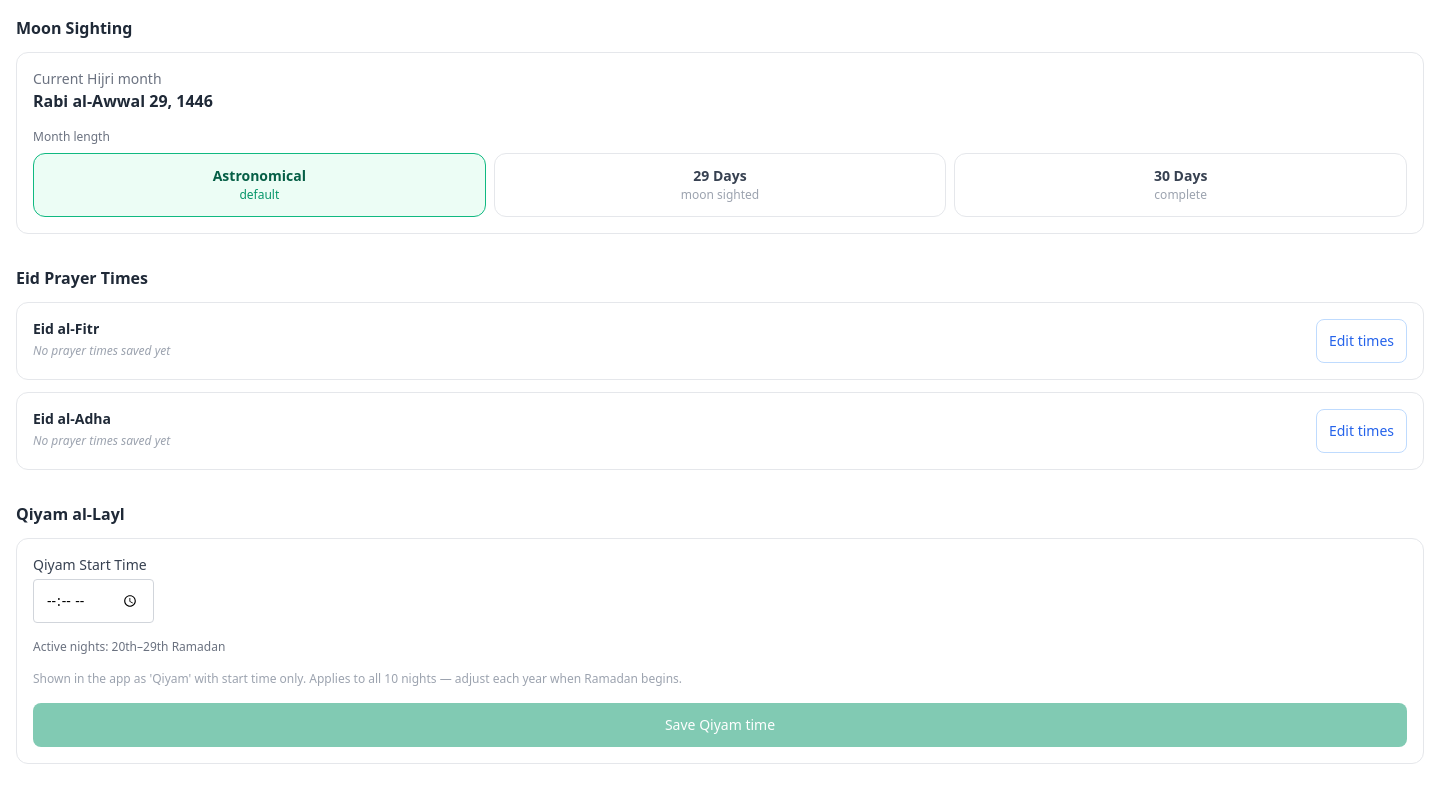
Test: RamadanEidPage — unit tests › shows success message after successful POST for non-Eid month
This screenshot has width=1440, height=810.
Click the button with test id "month-length-tile-29" at (720, 185), box [494, 153, 946, 217]
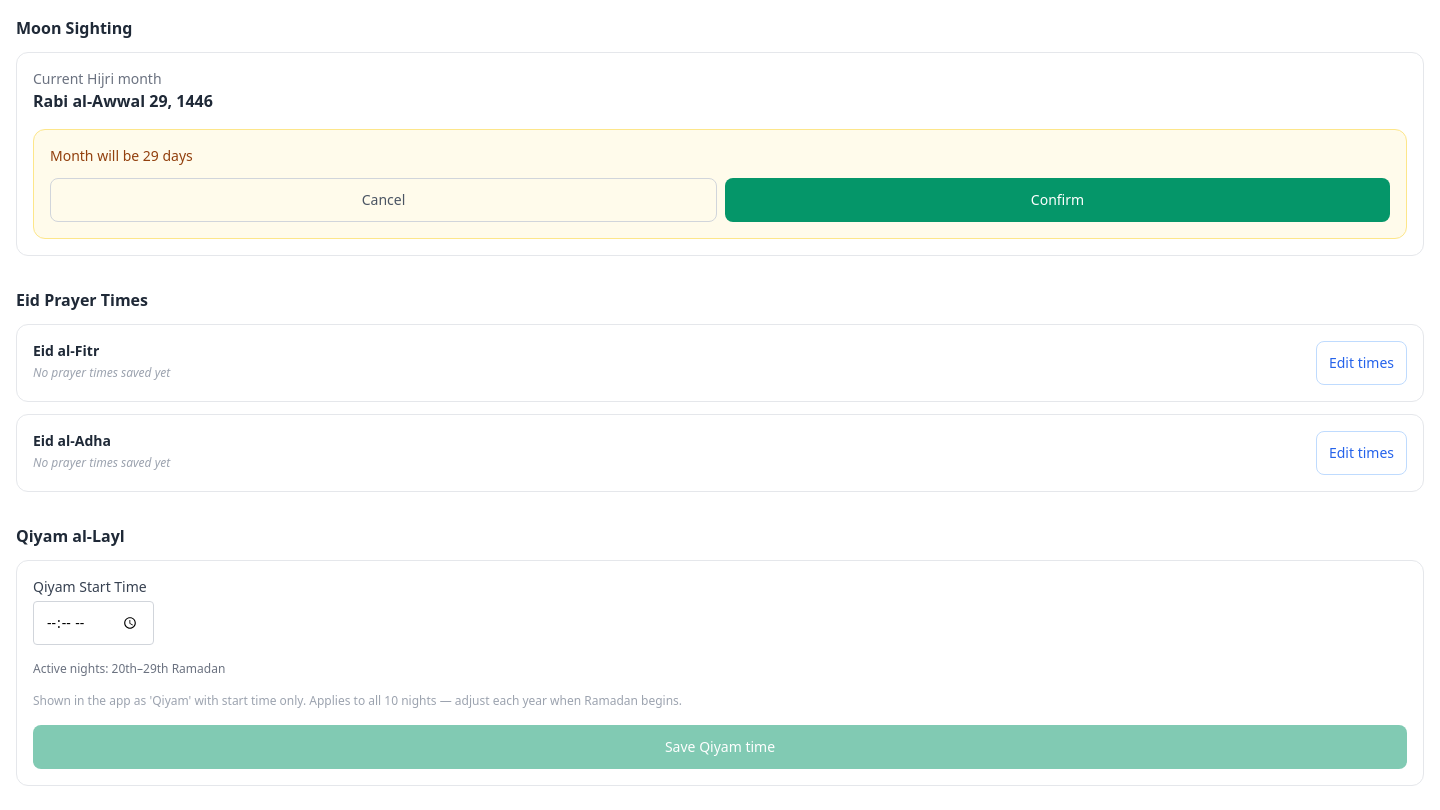
Click the button "Confirm" at (1058, 200), box [725, 178, 1390, 222]
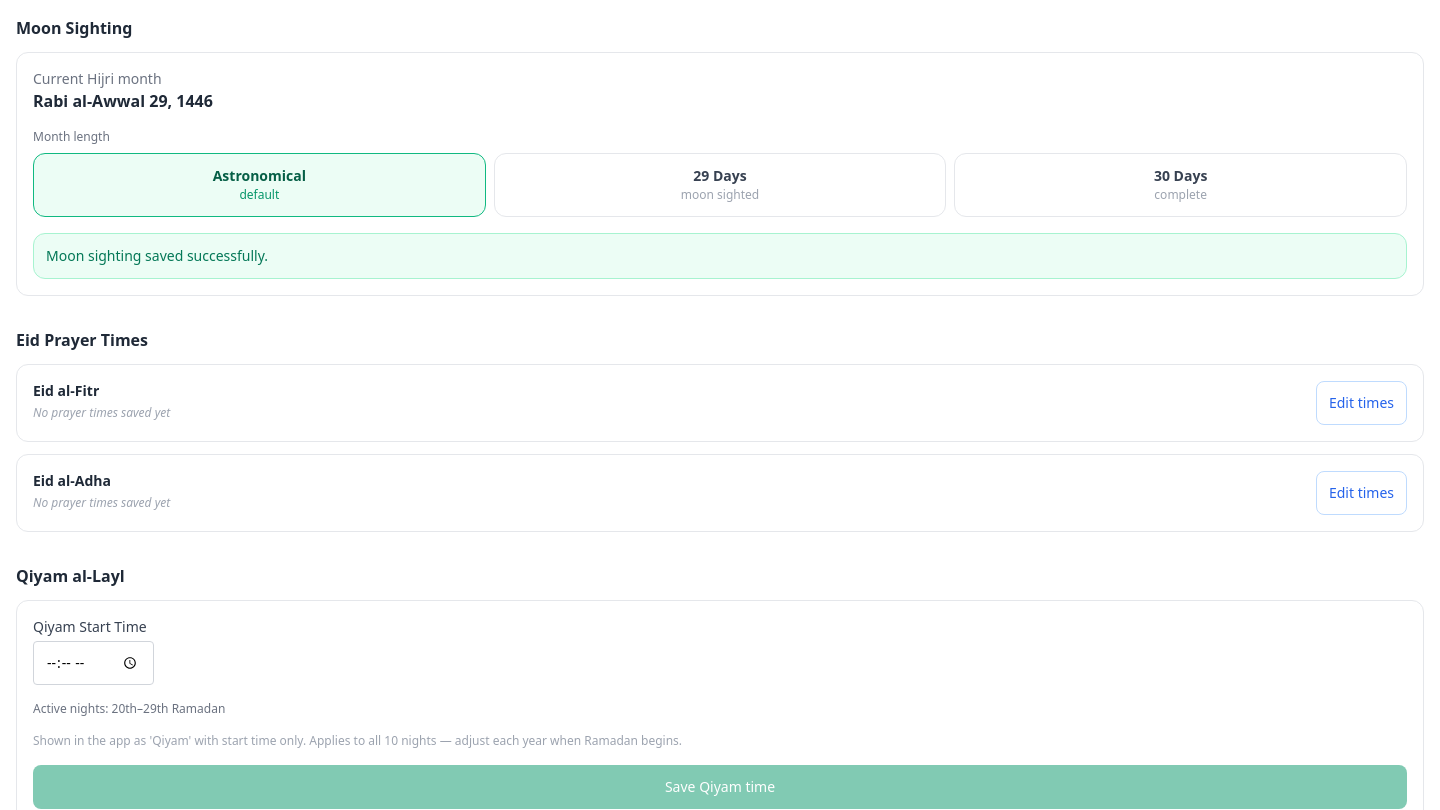
Expected: the message "Moon sighting saved successfully." is shown, [33, 233, 1407, 279]
